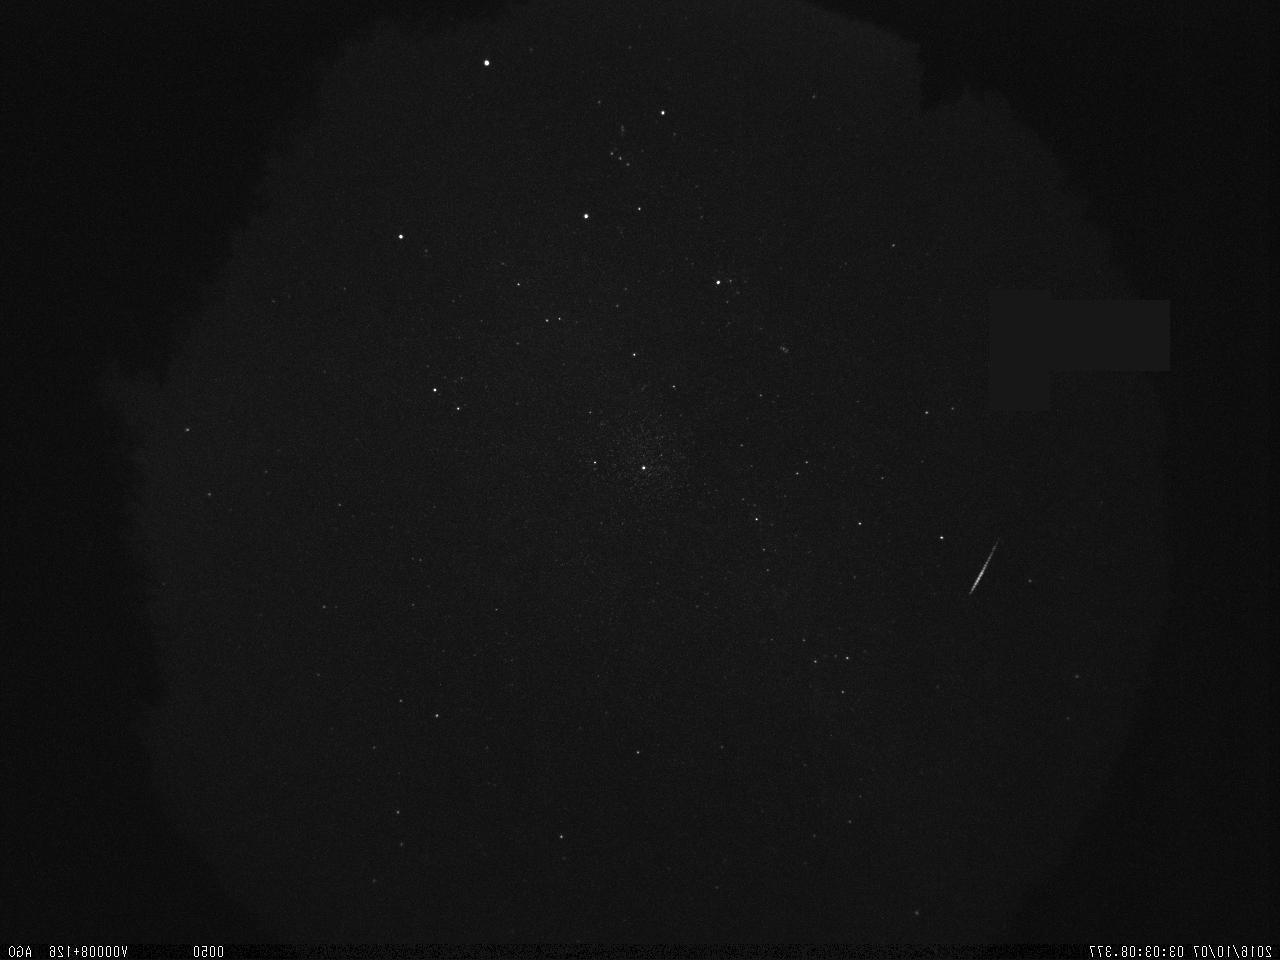meteor: (965, 530, 1012, 603)
